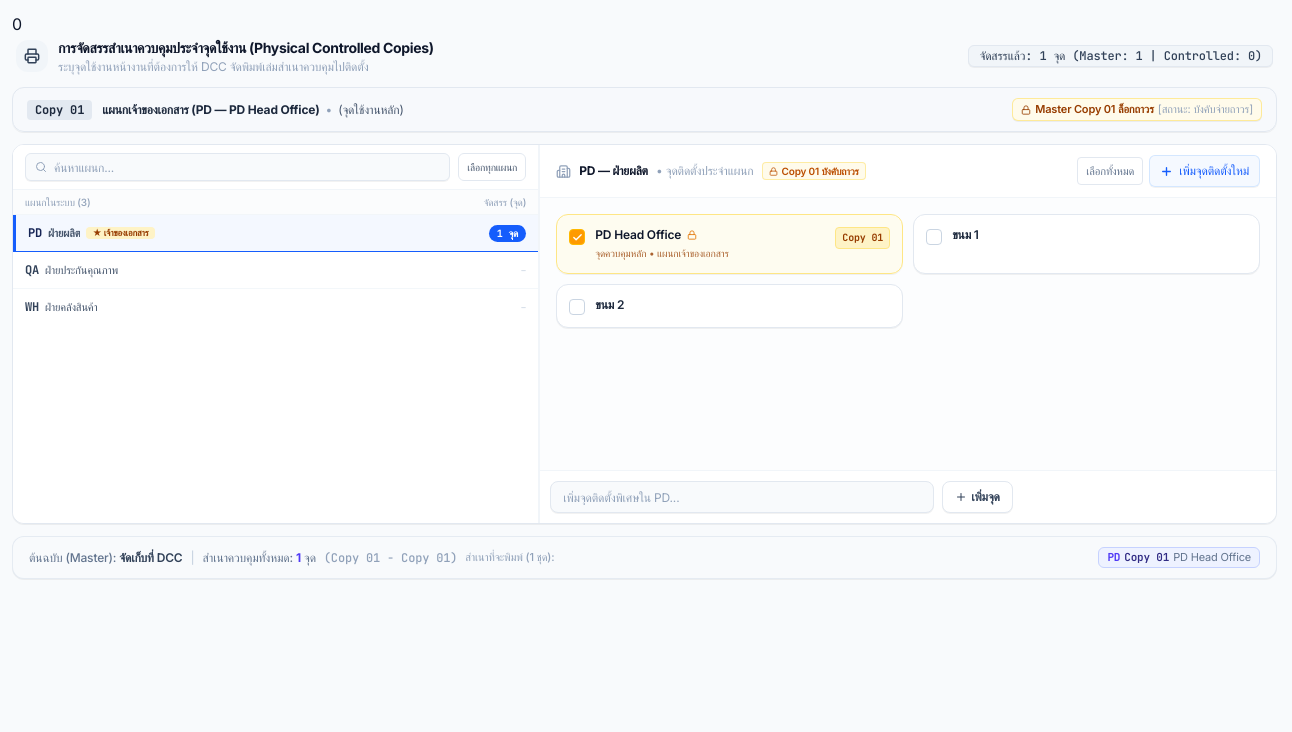
Scenario: Distribution Station Checkbox Click, ID Normalization & Real-time Allocation Sync Tests › Test Case 4: Multi-Department Selection: Switch to QA tab, select "QA Head Office" receives Copy 02 and updates QA counter
# Switch to QA Tab
Click the button "QA ฝ่ายประกันคุณภาพ –" at (82, 270), box left=13, top=252, right=538, bottom=289
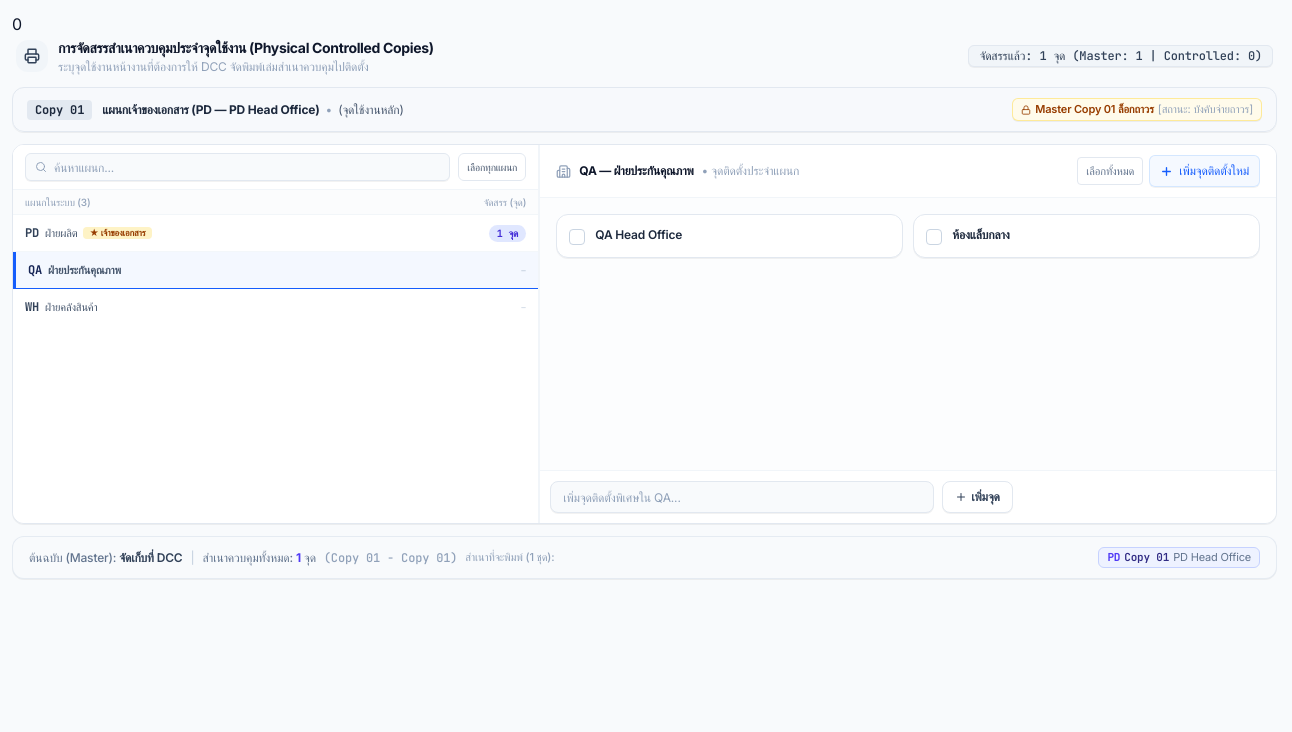
Now the button "QA Head Office" is shown
Click the button "QA Head Office" at (639, 235), box left=556, top=214, right=903, bottom=258
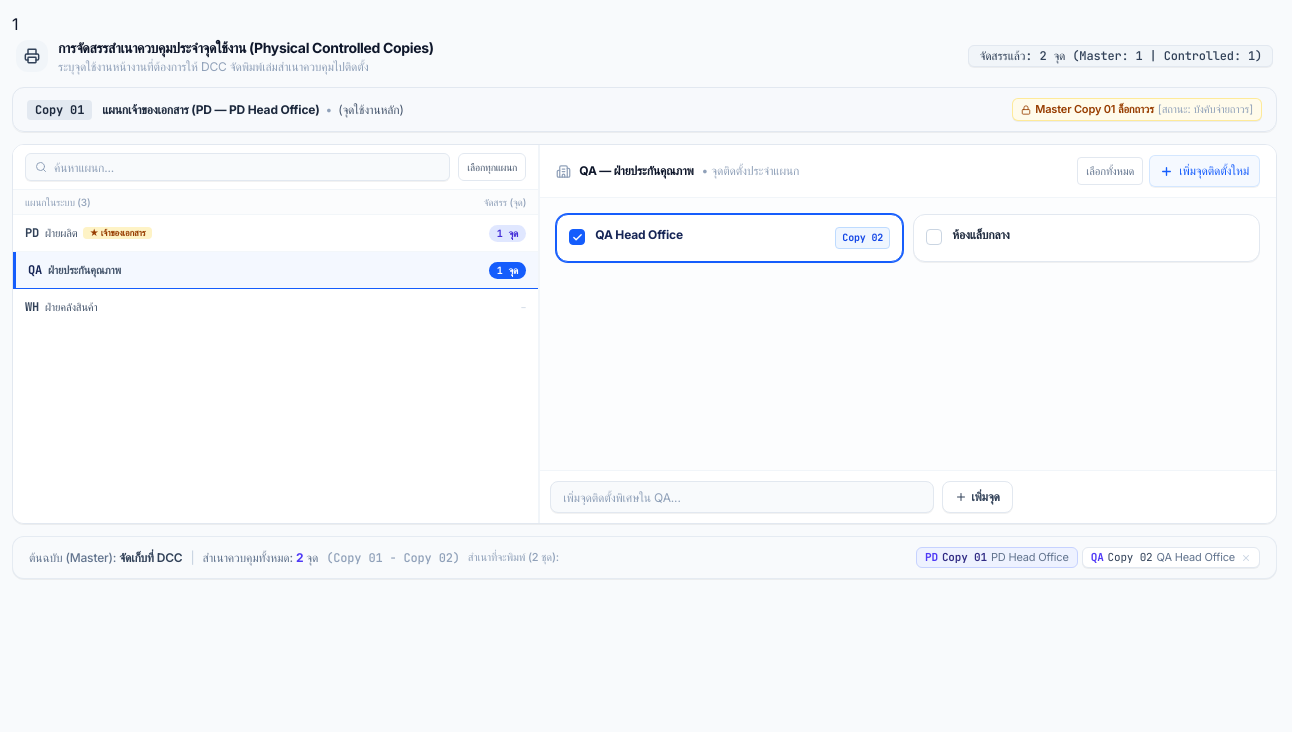
Now the button "QA ฝ่ายประกันคุณภาพ 1 จุด" is shown, box left=13, top=252, right=538, bottom=289
Click the button "PD ฝ่ายผลิต ★ เจ้าของเอกสาร 1 จุด" at (61, 233), box left=13, top=215, right=538, bottom=252
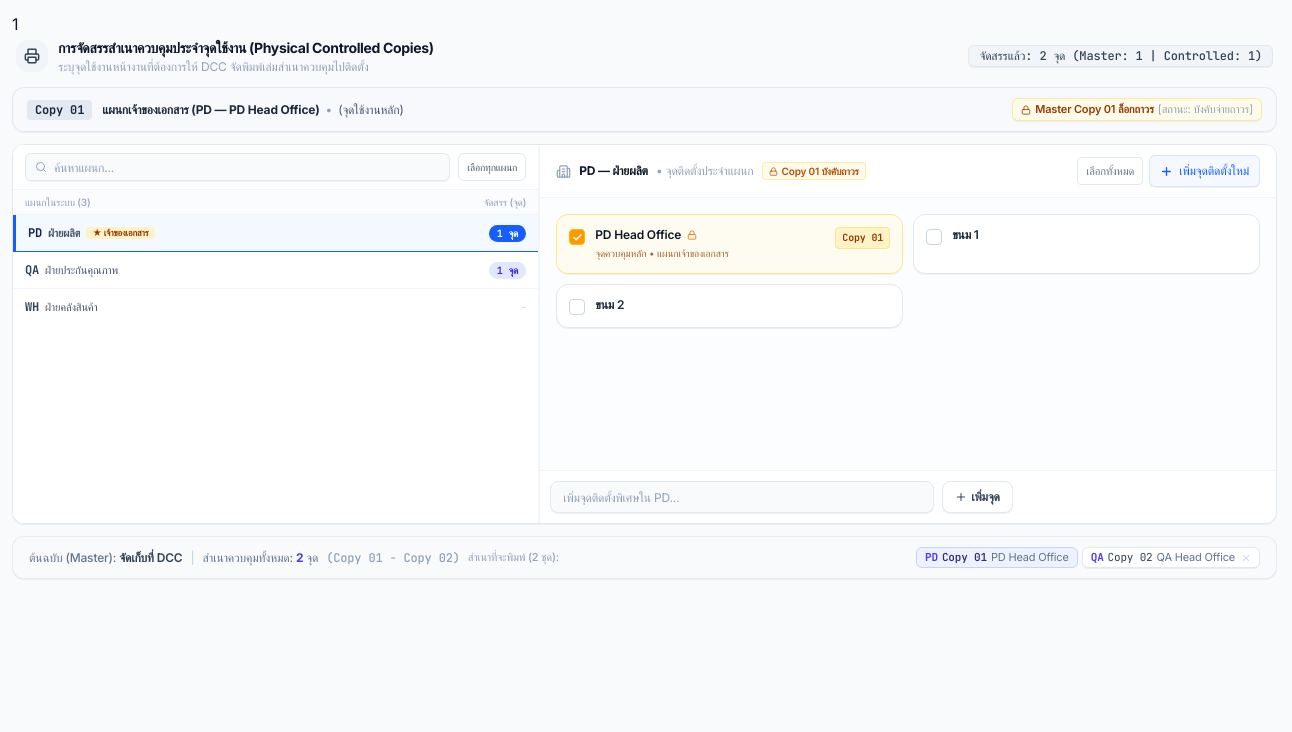
Click the button "ขนม 1" at (934, 237), box left=913, top=214, right=1260, bottom=274
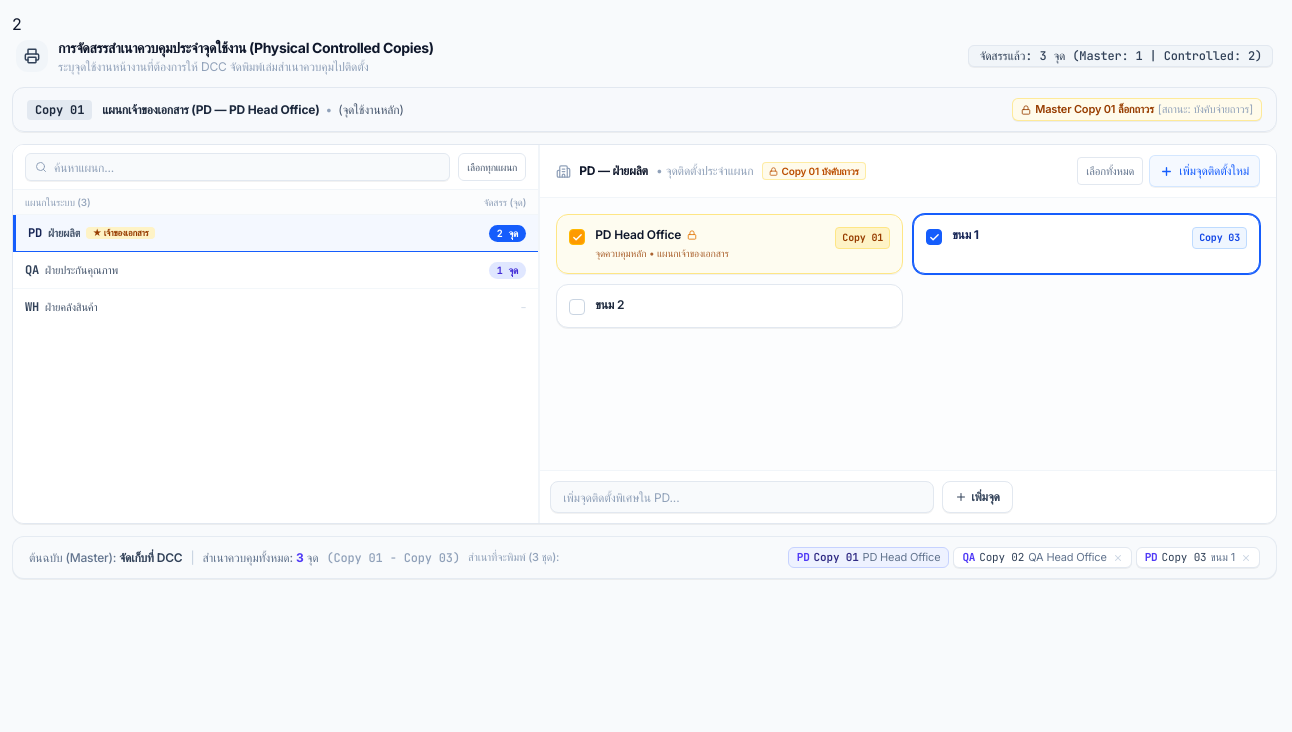
Now the text "สำเนาที่จะพิมพ์ (3 ชุด):" is shown, box left=468, top=550, right=559, bottom=565
